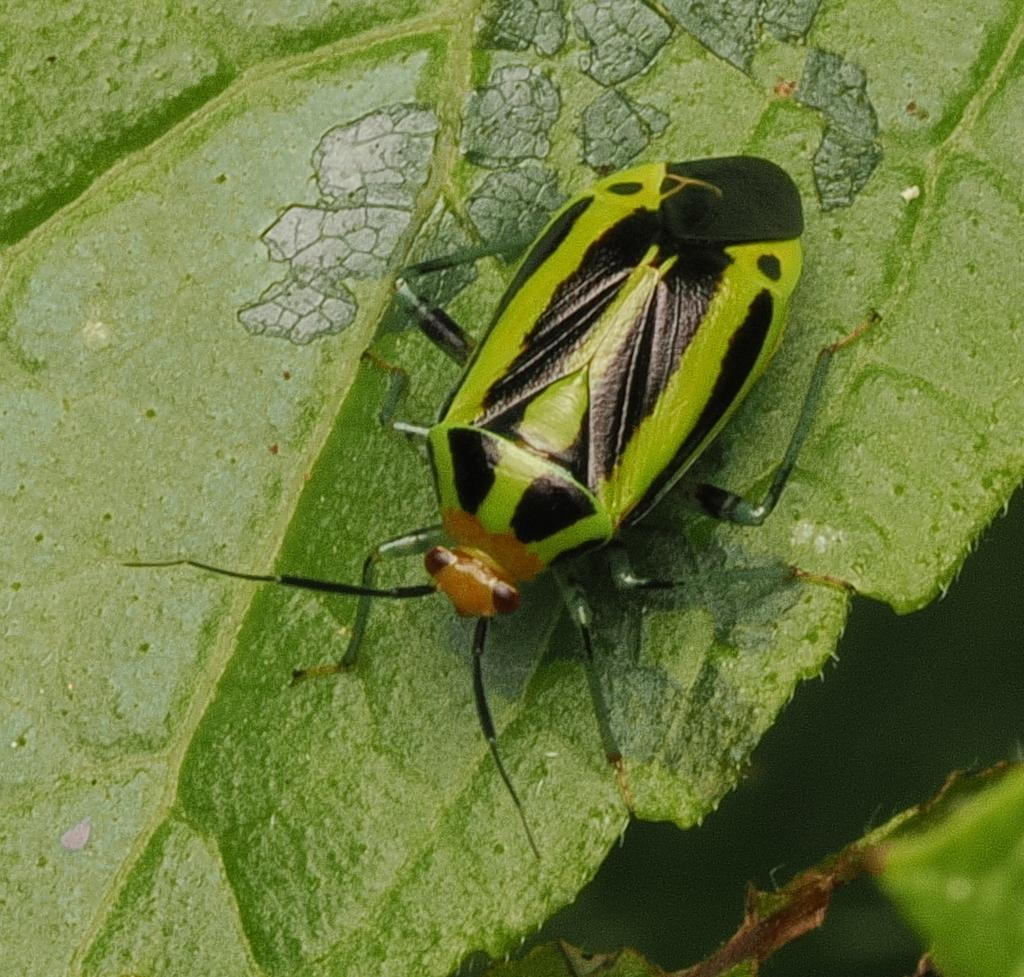plant_bugs: (70, 39, 983, 920)
